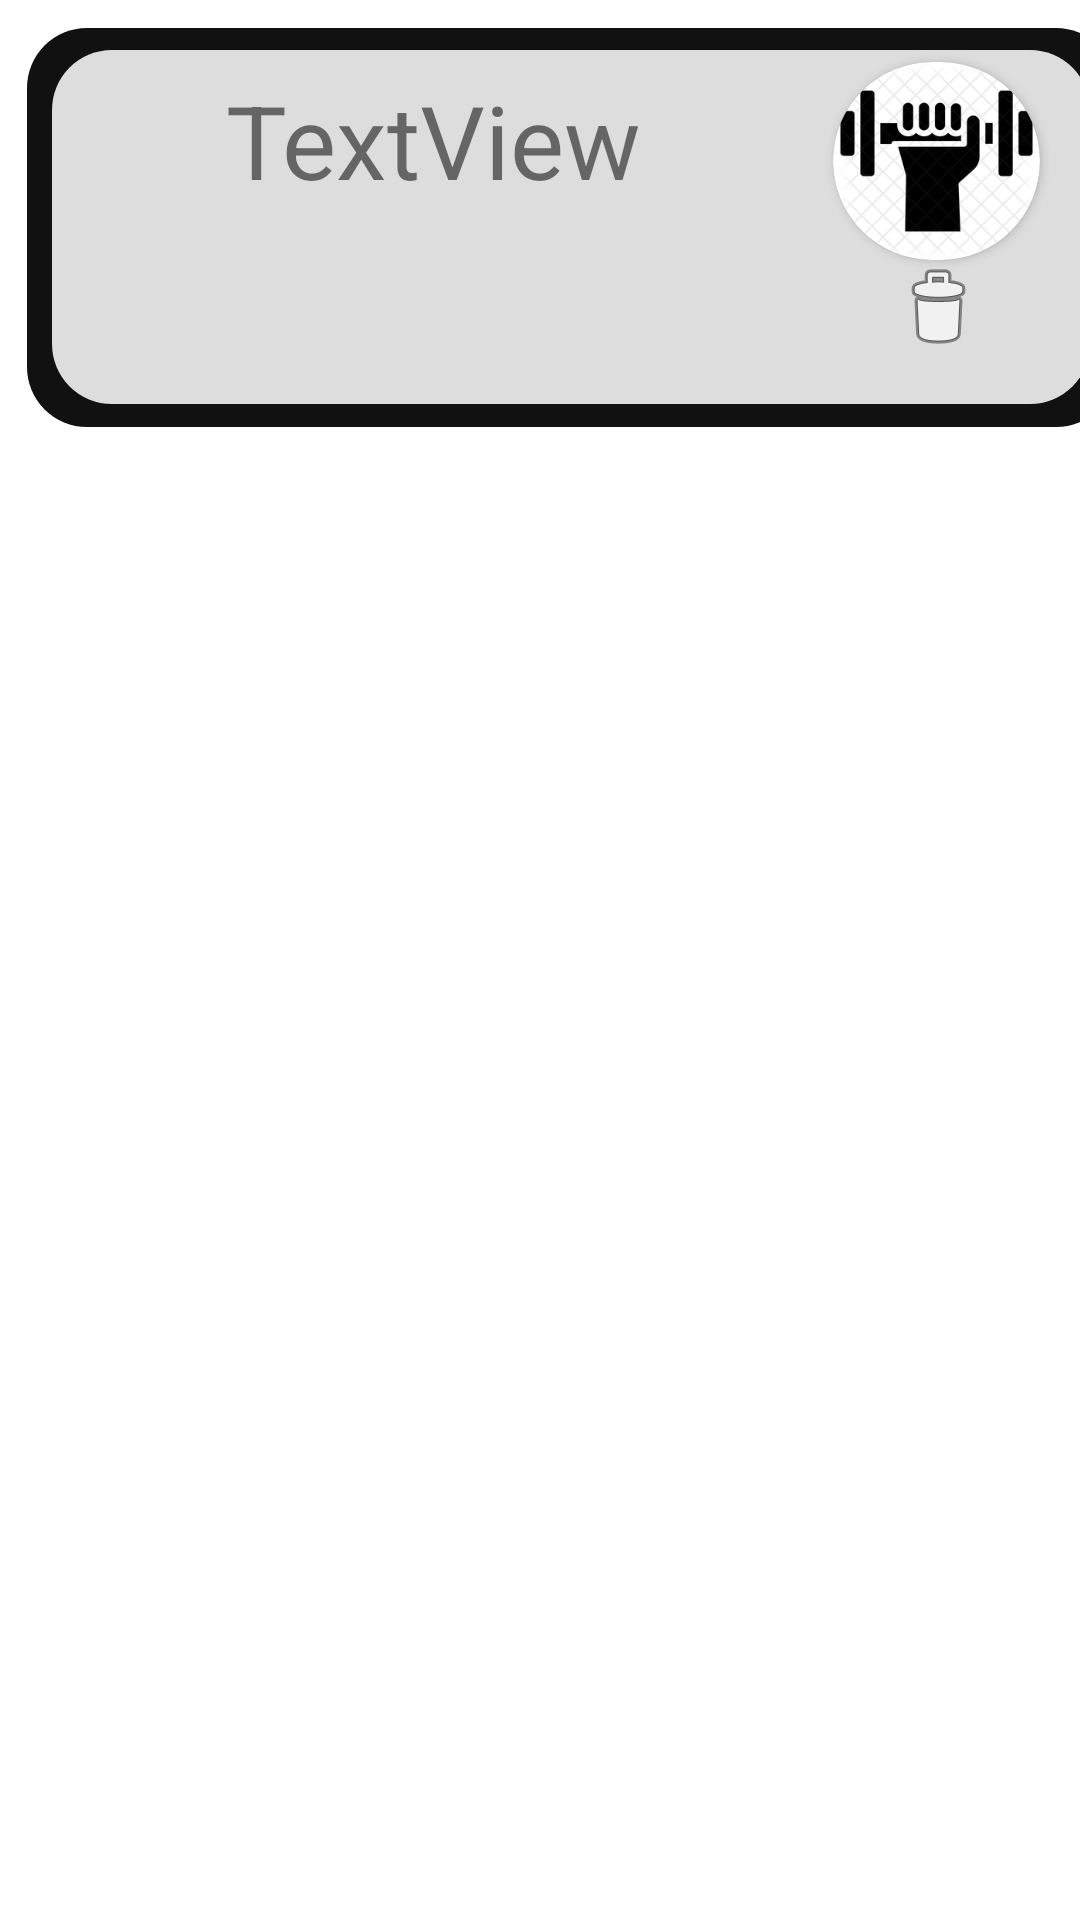

Where icons sit on this 1080*1920 app screen, as (x1, y1, x2, y2):
logworkout: (833, 62, 1040, 260)
